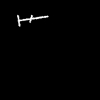double_crochet: (17, 15, 47, 25)
